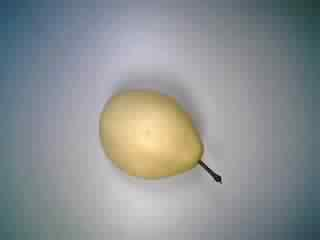pear: (88, 85, 228, 192)
